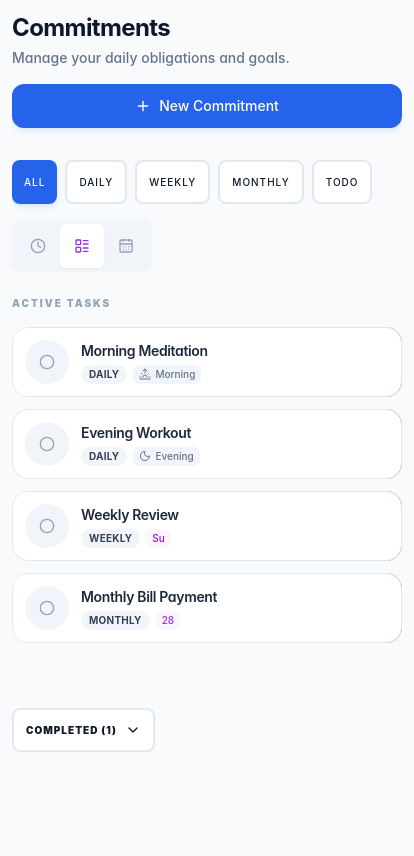
Test: CommitmentsView › Task Filtering › filters to show only monthly tasks
The width and height of the screenshot is (414, 856).
Step 1. Click the button "monthly" → (261, 182), box [218, 160, 304, 204]
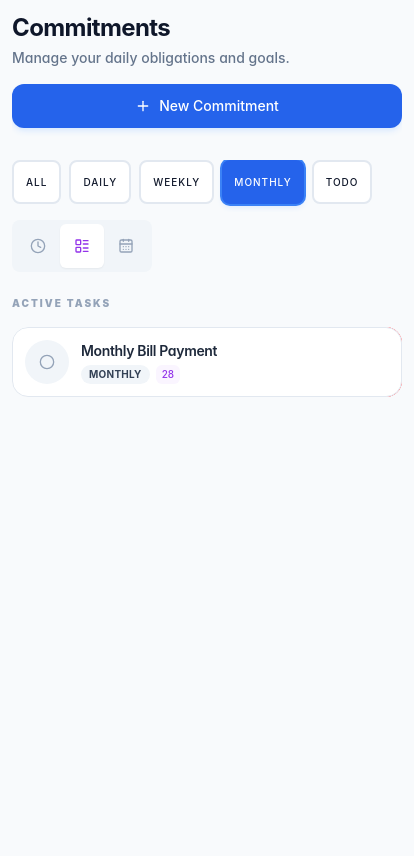
Expected: the button "Monthly Bill Payment" is shown, [81, 340, 217, 360]
Expected: the button "Morning Meditation" is gone
Expected: the button "Weekly Review" is gone
